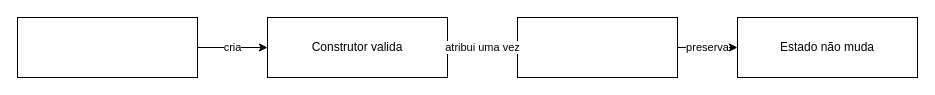
The diagram is 935 pixels wide and 95 high, and some of its shapes have lost their labels. Here are the shapes that lost their labels. From the top down, the centre of each, then its label:
At [107,47]: "new Cpf(numero)".
At [597,47]: "numero: final".
